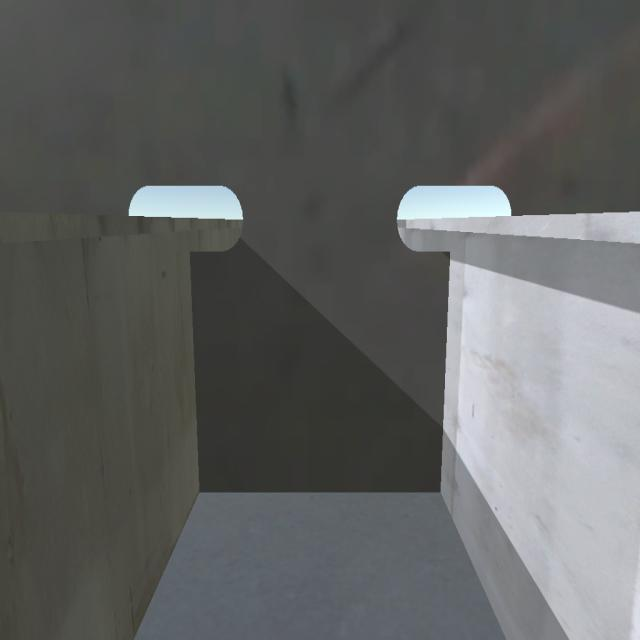fillet_yong_jeop_jang: (195, 482, 450, 502)
longi_yong_jeop_jang: (183, 252, 209, 500), (437, 243, 451, 497)
